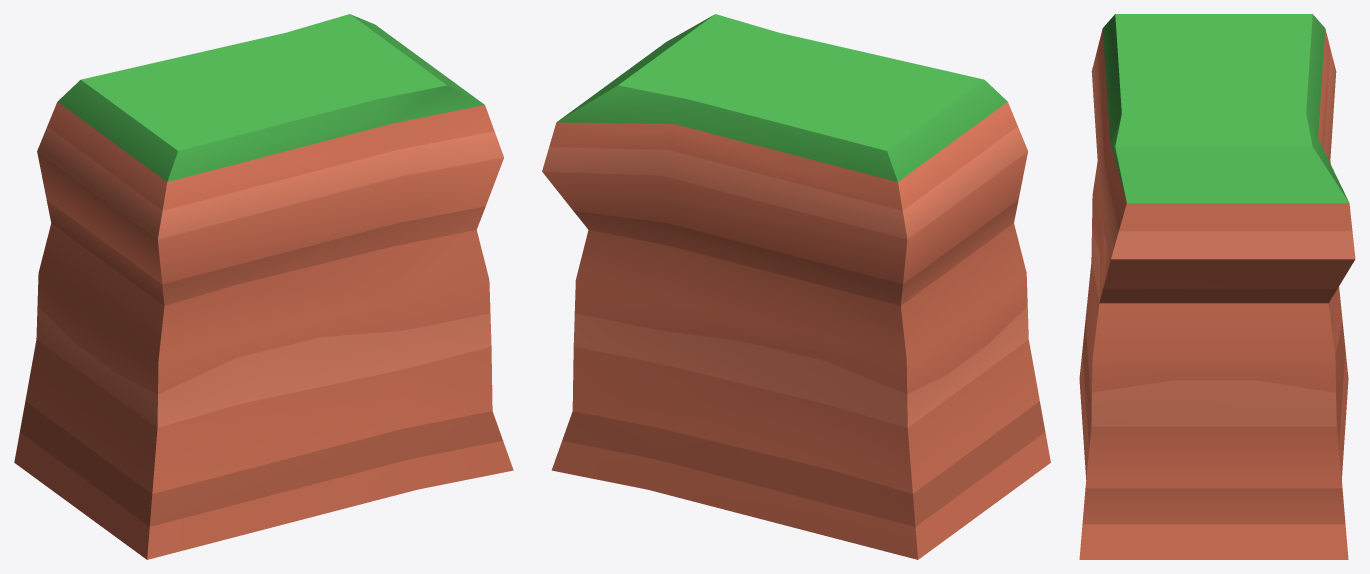
The model's file is StoneWall024.fbx.
3 renders of one model, left to right at view 1: azimuth 30°, elevation 25°; view 2: azimuth 150°, elevation 25°; view 3: azimuth 270°, elevation 25°, orthographic.
Parts seen in each view (by area): view 1: StoneWall024; view 2: StoneWall024; view 3: StoneWall024.
Boxes of the visible parts, x1,y1,x2,y2 form: StoneWall024: [14, 14, 513, 559]; StoneWall024: [542, 14, 1050, 559]; StoneWall024: [1079, 14, 1355, 559].
Bounding box in the file's own units: 456 × 449 × 289.
